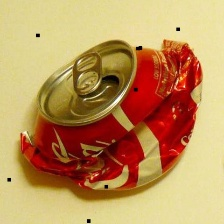can: (14, 31, 207, 195)
